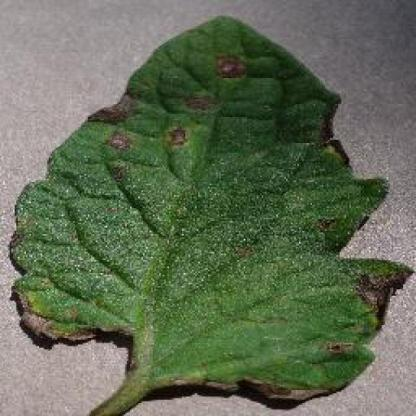Tomato_Blight: (12, 15, 407, 400)
